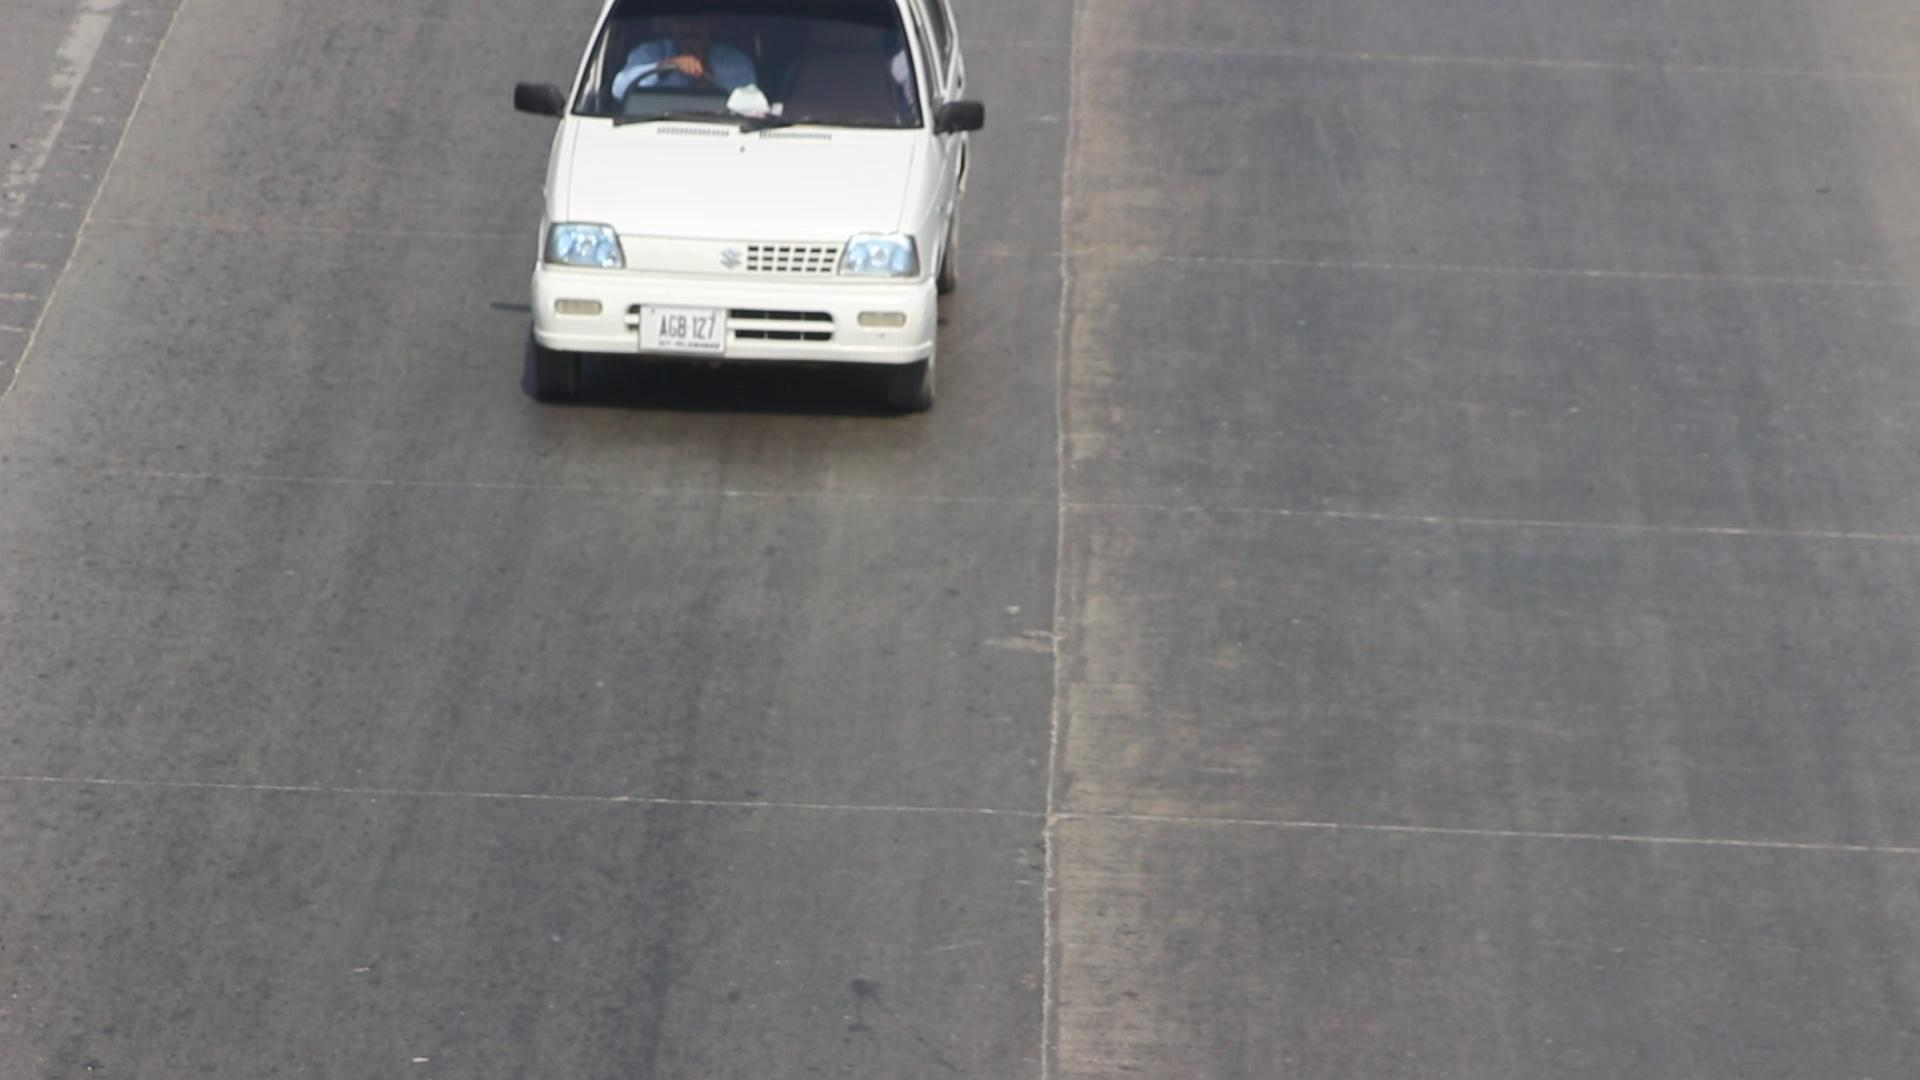windshield: (558, 0, 934, 137)
